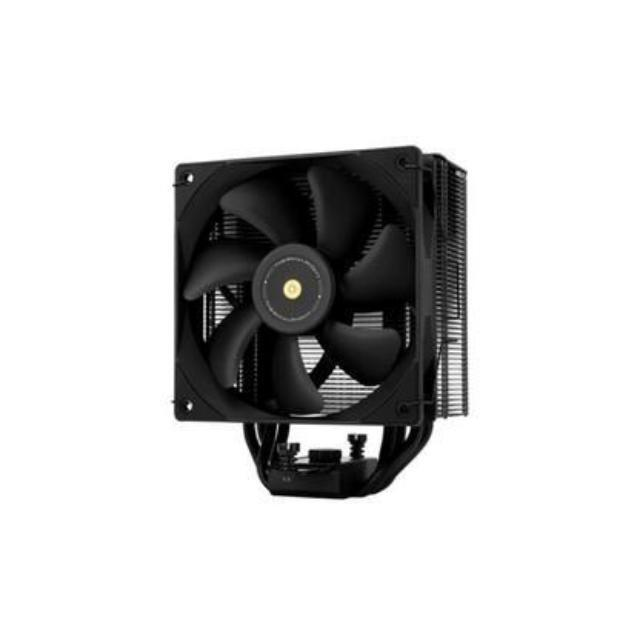CPU_Fan: (168, 152, 474, 500)
